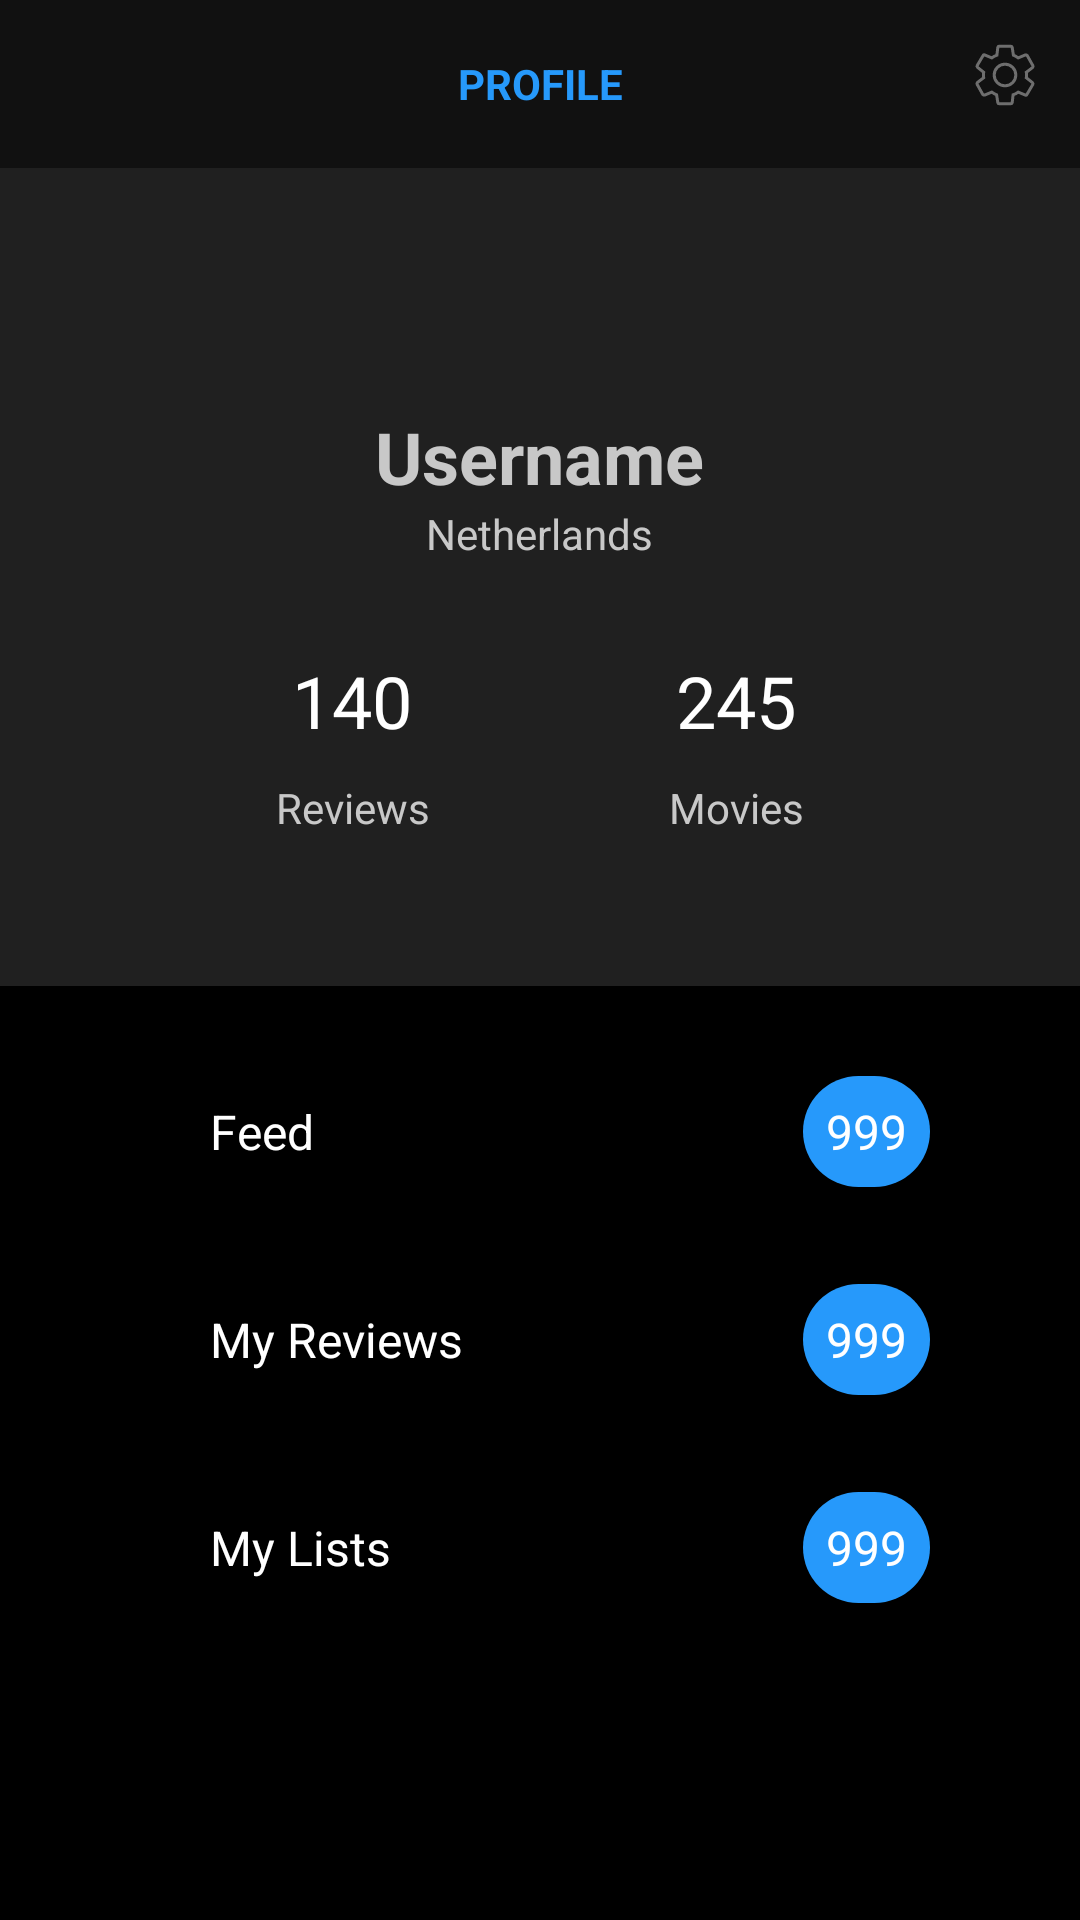

Screen size 1080 x 1920. Icon name, then its box in pixels as (x1, y1, x2, y2):
settings: (975, 45, 1035, 105)
